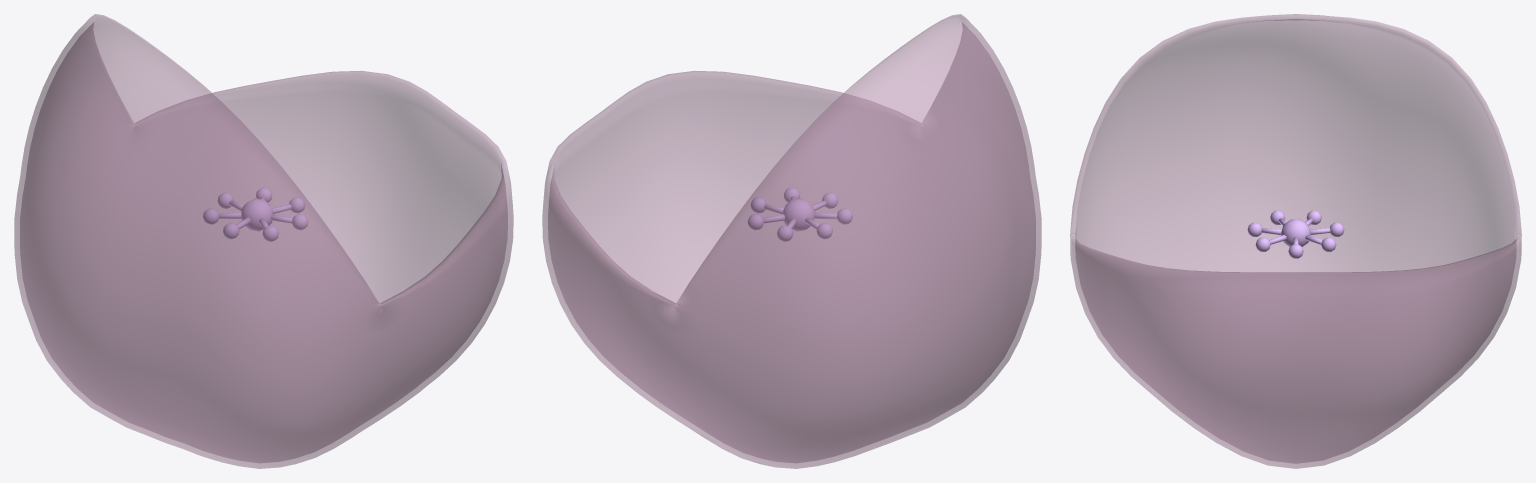
The model's file is apoptosome_cell.glb.
3 renders of one model, left to right at view 1: azimuth 30°, elevation 25°; view 2: azimuth 150°, elevation 25°; view 3: azimuth 270°, elevation 25°, orthographic. The views are drawn at different scales.
Parts seen in each view (by area): view 1: Cell_Cortex_Cutaway, Apoptosome_Wheel; view 2: Cell_Cortex_Cutaway, Apoptosome_Wheel; view 3: Cell_Cortex_Cutaway, Apoptosome_Wheel.
Boxes of the visible parts, x1,y1,x2,y2 form: Cell_Cortex_Cutaway: [14, 14, 513, 468]; Apoptosome_Wheel: [203, 187, 308, 241]; Cell_Cortex_Cutaway: [542, 14, 1041, 468]; Apoptosome_Wheel: [747, 187, 852, 241]; Cell_Cortex_Cutaway: [1070, 14, 1521, 468]; Apoptosome_Wheel: [1247, 210, 1344, 258].
Bounding box in the file's own units: 12.39 × 11.59 × 12.4.
